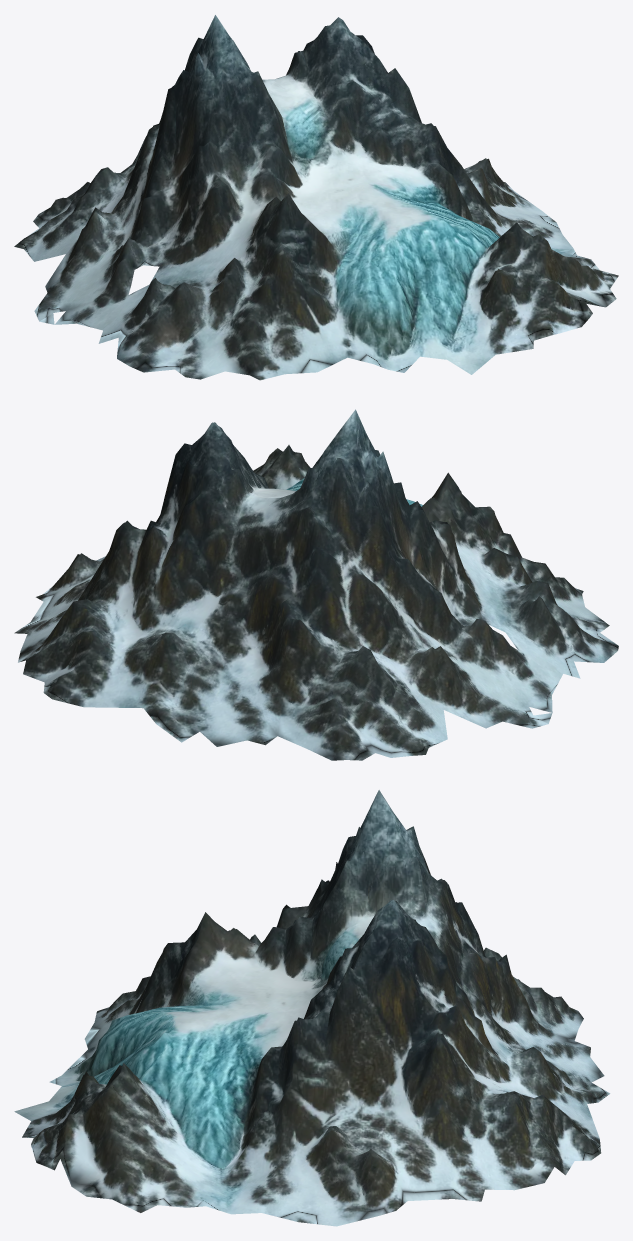
File: tundra-mountain-2.glb
3 renders of one model, top to bottom at view 1: azimuth 30°, elevation 25°; view 2: azimuth 150°, elevation 25°; view 3: azimuth 270°, elevation 25°, orthographic. The views are drawn at different scales.
Visible parts, largest first — view 1: geometry_0; view 2: geometry_0; view 3: geometry_0.
Part boxes in pixels (left/top/right/bottom): geometry_0: left=14, top=15, right=618, bottom=380; geometry_0: left=14, top=409, right=618, bottom=760; geometry_0: left=14, top=790, right=610, bottom=1226.
Bounding box in the file's own units: 0.9508 × 0.4849 × 0.9512.
Materials: 1 (1 with a texture image).
